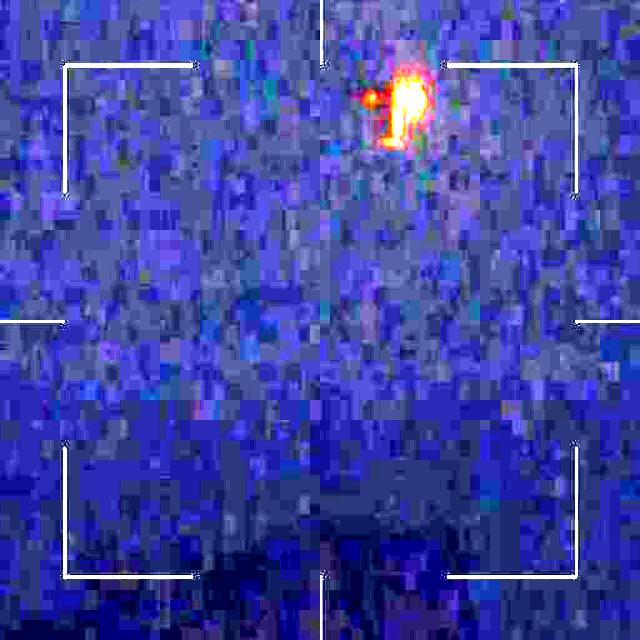bird: (356, 79, 428, 144)
